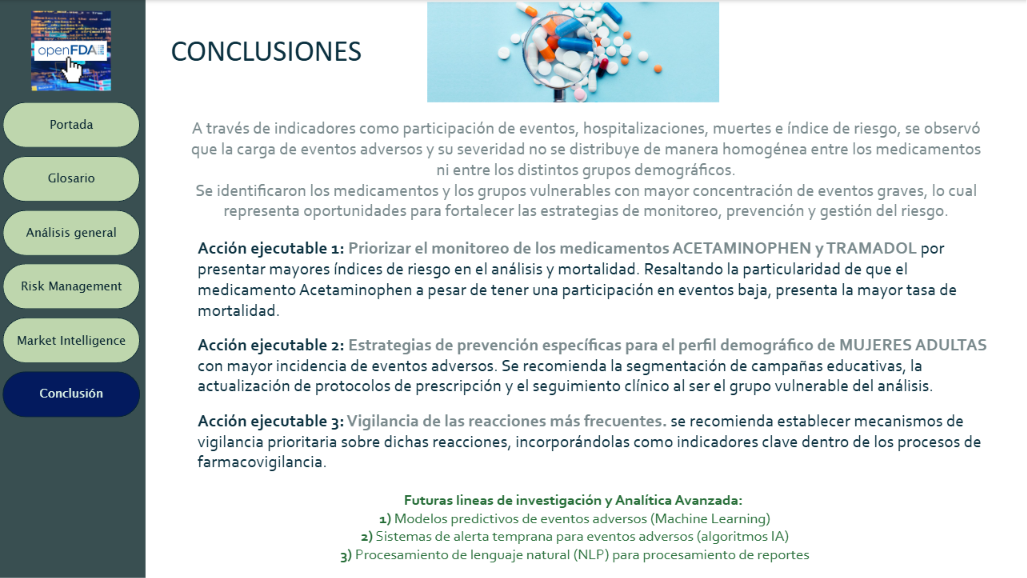

The dashboard page shown, as its layout file describes it:
{"tool":"powerbi","page":{"name":"Conclusión","canvas":[1280,720],"ordinal":5},"visuals":[{"type":"shape","box":[0,0,184.1,719],"z":0},{"type":"pageNavigator","box":[6.2,126.9,171.7,396.8],"z":1000},{"type":"image","box":[5,13.7,172.9,99.5],"z":2000},{"type":"image","box":[183.6,2.5,1064.2,124.9],"z":2001},{"type":"textbox","box":[209.8,36.2,263.5,58.7],"z":2002},{"type":"textbox","box":[229.8,142.4,1004.2,159.9],"z":2003},{"type":"textbox","box":[243.6,291,1004.2,327.2],"z":2004},{"type":"textbox","box":[187.4,605.8,1060.4,101.2],"z":2005}]}

Visuals, with their boxes on the page's 1280x720 design canvas (x1, y1, x2, y2). These are canvas units, not pixel positions in the 1027x578 screenshot, which may show the page scaled, cropped or inside an application window:
shape: [x1=0, y1=0, x2=184, y2=719]
pageNavigator: [x1=6, y1=127, x2=178, y2=524]
image: [x1=5, y1=14, x2=178, y2=113]
image: [x1=184, y1=2, x2=1248, y2=127]
textbox: [x1=210, y1=36, x2=473, y2=95]
textbox: [x1=230, y1=142, x2=1234, y2=302]
textbox: [x1=244, y1=291, x2=1248, y2=618]
textbox: [x1=187, y1=606, x2=1248, y2=707]
